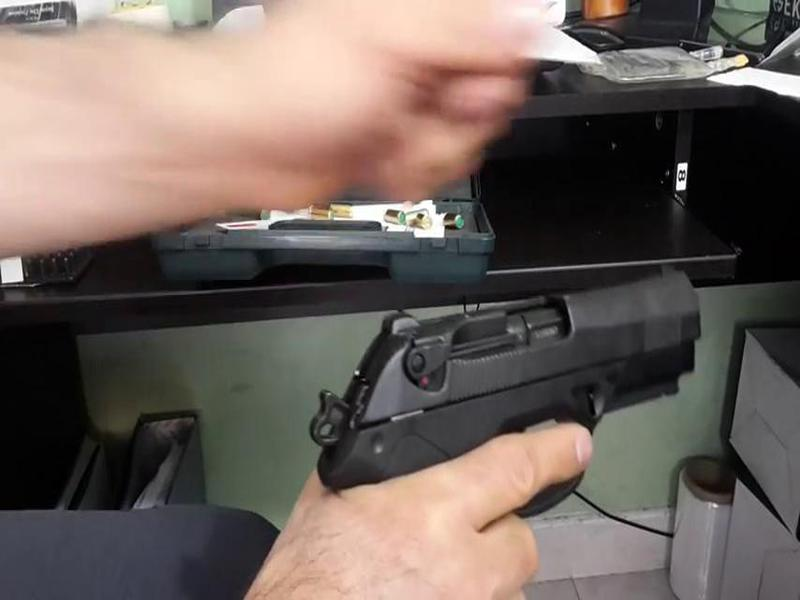Pistola: (272, 255, 737, 518)
